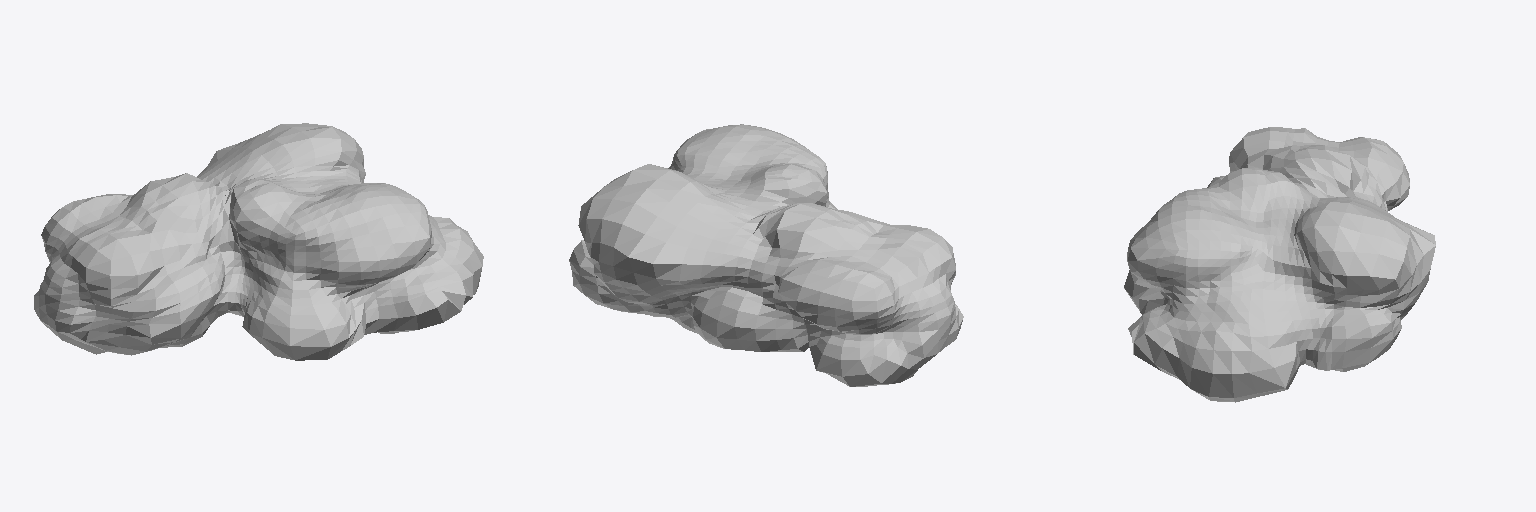
File: CloudC.obj
The picture shows the model from 3 angles: view 1: azimuth 30°, elevation 25°; view 2: azimuth 150°, elevation 25°; view 3: azimuth 270°, elevation 25°; orthographic projection.
Parts seen in each view (by area): view 1: CloudC1 CloudsMiddle1 Clouds1; view 2: CloudC1 CloudsMiddle1 Clouds1; view 3: CloudC1 CloudsMiddle1 Clouds1.
Boxes of the visible parts, <box> form: CloudC1 CloudsMiddle1 Clouds1: <box>34,123,483,360</box>; CloudC1 CloudsMiddle1 Clouds1: <box>569,124,963,386</box>; CloudC1 CloudsMiddle1 Clouds1: <box>1124,127,1435,402</box>.
Size of the model in its own units: 512 by 207 by 352.